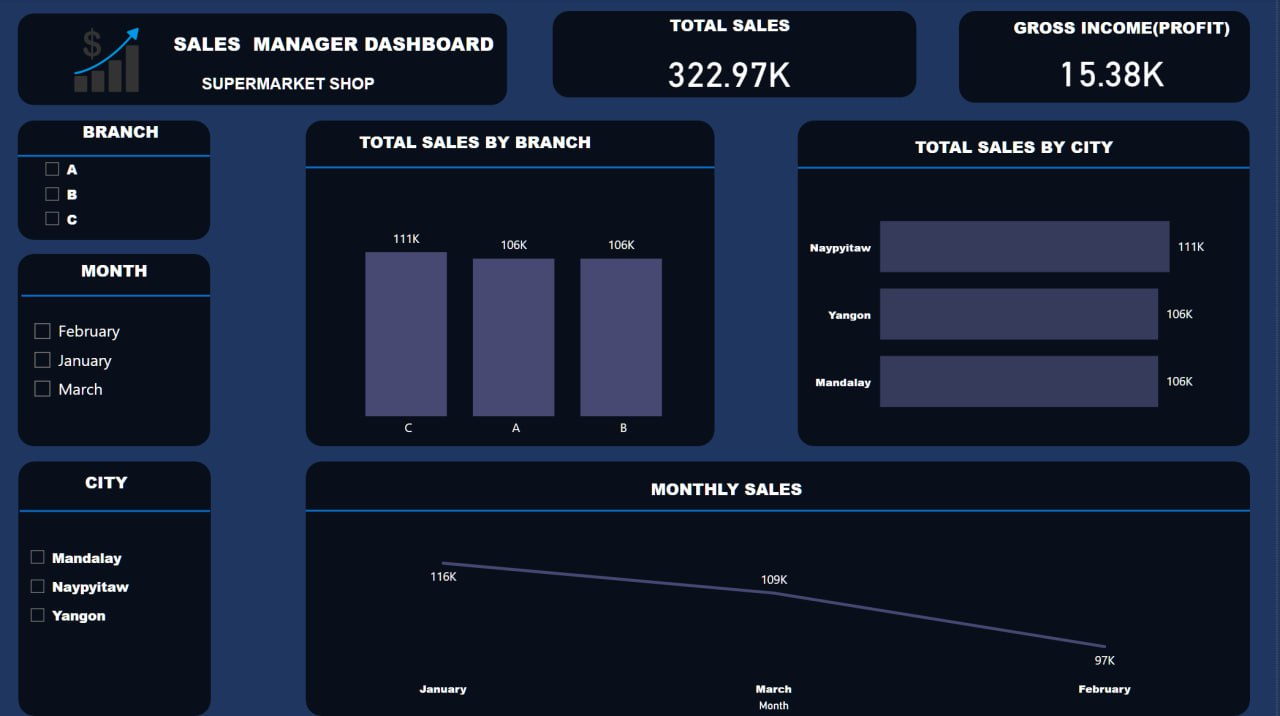

This screenshot's page, from the dashboard's own definition file:
{"tool":"powerbi","page":{"name":"SALES MANAGER","canvas":[1280,720],"ordinal":1},"visuals":[{"type":"shape","box":[18.7,14.7,490.7,92],"z":0},{"type":"shape","box":[307.2,122.3,409.8,326.8],"z":1000},{"type":"shape","box":[307.2,464.4,946.7,255.6],"z":4000},{"type":"shape","box":[18.4,256.2,192.9,192.9],"z":5000},{"type":"shape","box":[18.4,122.3,192.9,119.8],"z":6000},{"type":"shape","box":[800.5,122.3,453.4,326.8],"z":9000},{"type":"shape","box":[554.7,12.4,364.7,86.7],"z":11000},{"type":"shape","box":[962.1,12.4,291.8,92.2],"z":12000},{"type":"shape","box":[307.2,125.3,409.8,87.8],"z":15000},{"type":"textbox","box":[169.3,26.7,354.7,45.3],"z":20000},{"type":"textbox","box":[197.6,71.7,242.9,32.2],"z":21000},{"type":"image","box":[26.3,23.4,162.4,76.1],"z":22000},{"type":"card","fields":{"Values":["Sum(supermarket_sales - Sheet2.Gross Income)"]},"box":[1032.7,38,164,68.7],"z":23000},{"type":"textbox","box":[1012,12,242.7,48.7],"z":24000},{"type":"slicer","fields":{"Values":["supermarket_sales - Sheet2.Month"]},"box":[22.1,313.3,181.2,121],"z":25000},{"type":"shape","box":[22,265.3,189.3,65.3],"z":26000},{"type":"card","fields":{"Values":["Sum(supermarket_sales - Sheet2.Total ($))"]},"box":[630.4,38.5,202.3,68.8],"z":27000},{"type":"textbox","box":[616.6,9.6,231.2,56.4],"z":28000},{"type":"textbox","box":[22.1,256.2,186.1,44.2],"z":29000},{"type":"clusteredColumnChart","fields":{"Y":["Sum(supermarket_sales - Sheet2.Total ($))"],"Category":["supermarket_sales - Sheet2.Branch"]},"box":[318.8,217.5,398.1,231.6],"z":30000},{"type":"textbox","box":[355.7,127.2,251.3,54.1],"z":31000},{"type":"shape","box":[307.2,444.2,946.7,139.5],"z":34000},{"type":"lineChart","fields":{"Category":["supermarket_sales - Sheet2.Month"],"Y":["Sum(supermarket_sales - Sheet2.Total ($))"]},"box":[307.2,536.3,938.7,183.7],"z":35000},{"type":"textbox","box":[648.1,475.5,278.9,38.7],"z":36000},{"type":"clusteredBarChart","fields":{"Category":["supermarket_sales - Sheet2.City"],"Y":["Sum(supermarket_sales - Sheet2.Total ($))"]},"box":[806,183.1,419,261.7],"z":41000},{"type":"shape","box":[800.5,100.8,453.4,137.6],"z":42000},{"type":"textbox","box":[912.9,132.1,255.6,43],"z":43000},{"type":"shape","box":[19,464.4,192.9,255.6],"z":46000},{"type":"shape","box":[20.3,481.6,191.1,65.1],"z":47000},{"type":"slicer","fields":{"Values":["supermarket_sales - Sheet2.City"]},"box":[18.4,541.2,192.9,162.2],"z":48000},{"type":"textbox","box":[39.3,468.7,135.8,45.5],"z":49000},{"type":"slicer","fields":{"Values":["supermarket_sales - Sheet2.Branch"]},"box":[33.3,153.3,105,88.3],"z":50000},{"type":"shape","box":[18.7,125.3,192.7,64.7],"z":51000},{"type":"textbox","box":[40,116.7,163.3,45.3],"z":52000}]}

Visuals, with their boxes in screenshot pixels (x1, y1, x2, y2), scaled from the page's 1280x720 canvas onto the 1280x716 screenshot:
shape: [x1=19, y1=15, x2=509, y2=106]
shape: [x1=307, y1=122, x2=717, y2=447]
shape: [x1=307, y1=462, x2=1254, y2=715]
shape: [x1=18, y1=255, x2=211, y2=447]
shape: [x1=18, y1=122, x2=211, y2=241]
shape: [x1=800, y1=122, x2=1254, y2=447]
shape: [x1=555, y1=12, x2=919, y2=99]
shape: [x1=962, y1=12, x2=1254, y2=104]
shape: [x1=307, y1=125, x2=717, y2=212]
textbox: [x1=169, y1=27, x2=524, y2=72]
textbox: [x1=198, y1=71, x2=440, y2=103]
image: [x1=26, y1=23, x2=189, y2=99]
card - Sum(supermarket_sales - Sheet2.Gross Income): [x1=1033, y1=38, x2=1197, y2=106]
textbox: [x1=1012, y1=12, x2=1255, y2=60]
slicer - supermarket_sales - Sheet2.Month: [x1=22, y1=312, x2=203, y2=432]
shape: [x1=22, y1=264, x2=211, y2=329]
card - Sum(supermarket_sales - Sheet2.Total ($)): [x1=630, y1=38, x2=833, y2=107]
textbox: [x1=617, y1=10, x2=848, y2=66]
textbox: [x1=22, y1=255, x2=208, y2=299]
clusteredColumnChart - Sum(supermarket_sales - Sheet2.Total ($)) x supermarket_sales - Sheet2.Branch: [x1=319, y1=216, x2=717, y2=447]
textbox: [x1=356, y1=126, x2=607, y2=180]
shape: [x1=307, y1=442, x2=1254, y2=580]
lineChart - supermarket_sales - Sheet2.Month x Sum(supermarket_sales - Sheet2.Total ($)): [x1=307, y1=533, x2=1246, y2=715]
textbox: [x1=648, y1=473, x2=927, y2=511]
clusteredBarChart - supermarket_sales - Sheet2.City x Sum(supermarket_sales - Sheet2.Total ($)): [x1=806, y1=182, x2=1225, y2=442]
shape: [x1=800, y1=100, x2=1254, y2=237]
textbox: [x1=913, y1=131, x2=1168, y2=174]
shape: [x1=19, y1=462, x2=212, y2=715]
shape: [x1=20, y1=479, x2=211, y2=544]
slicer - supermarket_sales - Sheet2.City: [x1=18, y1=538, x2=211, y2=699]
textbox: [x1=39, y1=466, x2=175, y2=511]
slicer - supermarket_sales - Sheet2.Branch: [x1=33, y1=152, x2=138, y2=240]
shape: [x1=19, y1=125, x2=211, y2=189]
textbox: [x1=40, y1=116, x2=203, y2=161]
